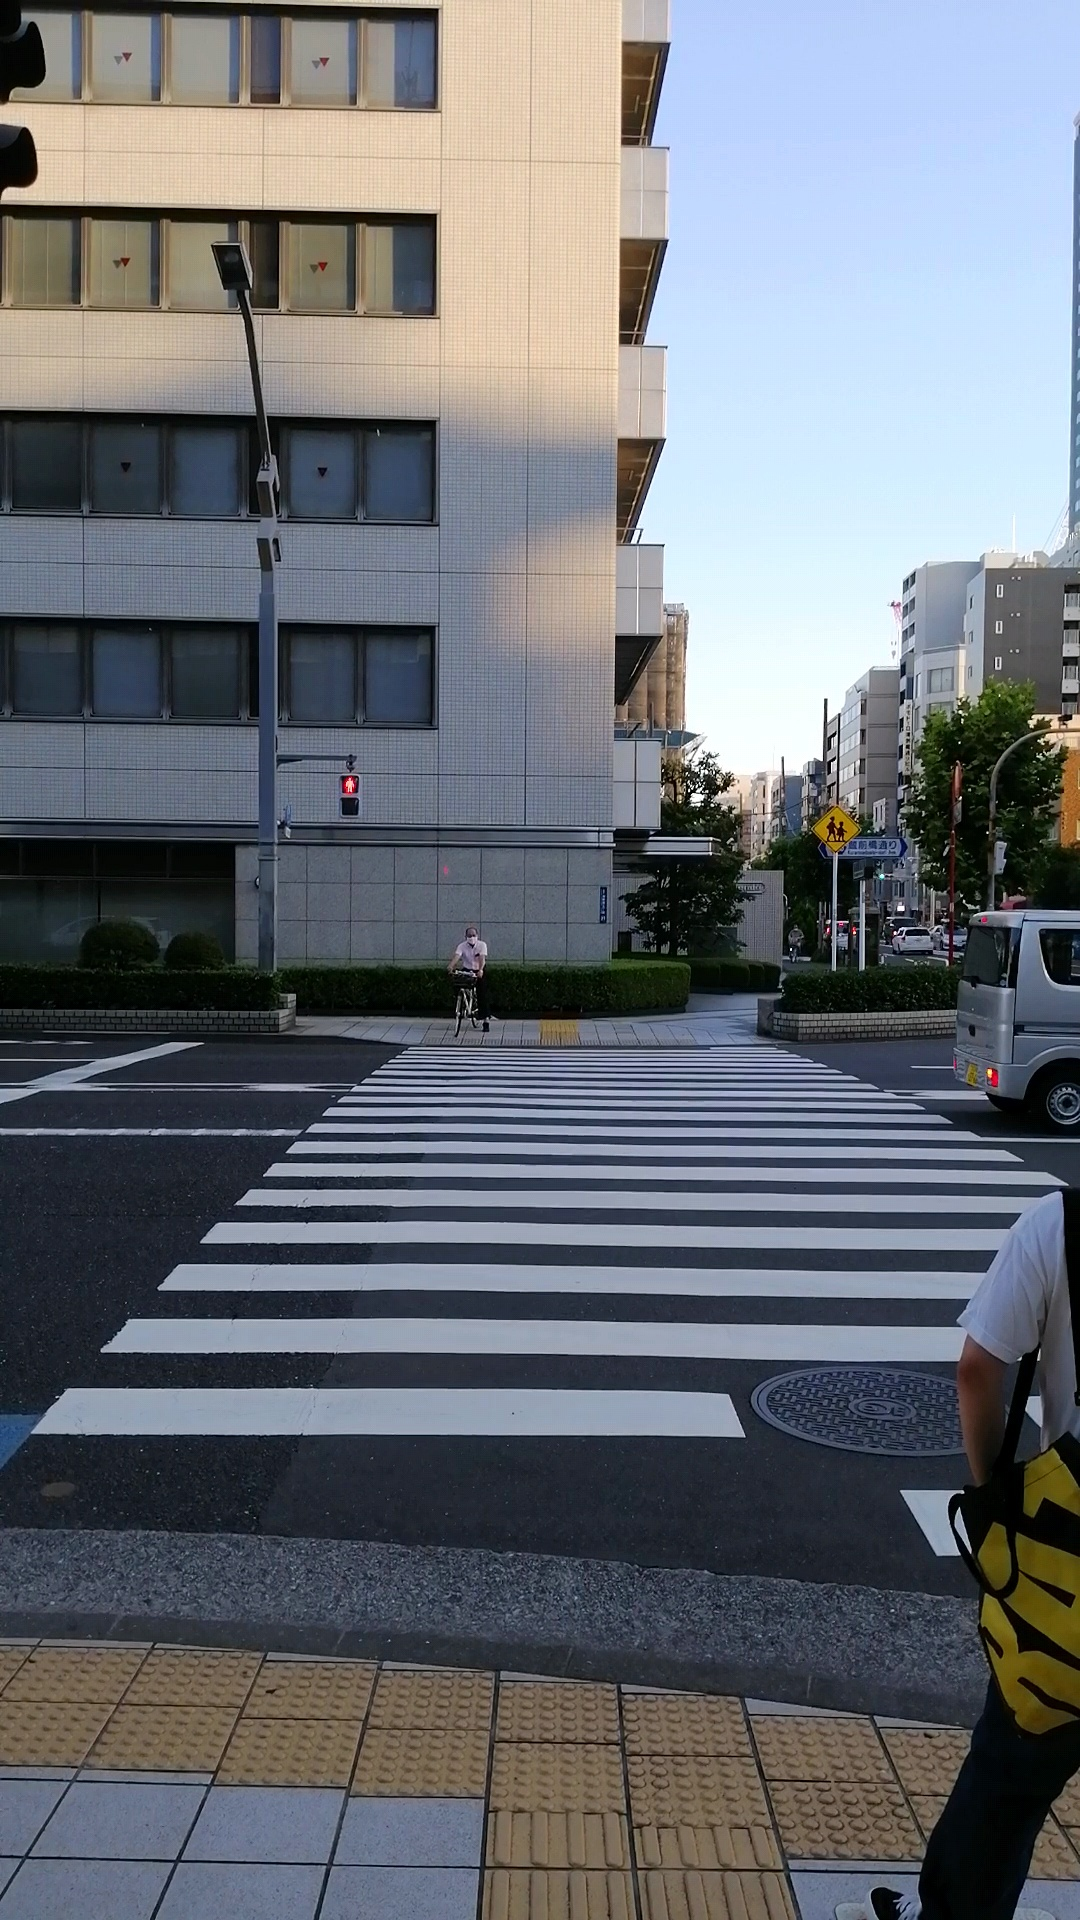red: (339, 773, 360, 820)
